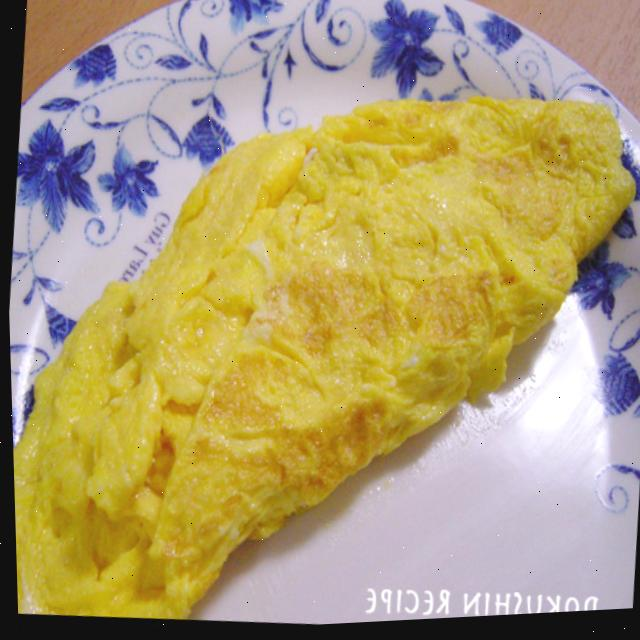鸡蛋料理: (1, 31, 640, 640)
